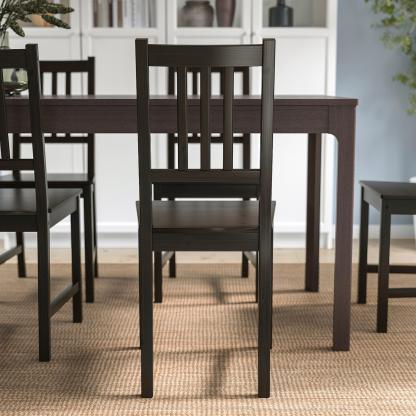chair: (130, 33, 294, 416), (0, 44, 82, 364), (9, 49, 104, 311), (160, 55, 254, 282), (361, 167, 416, 339)
table: (0, 88, 359, 354)
